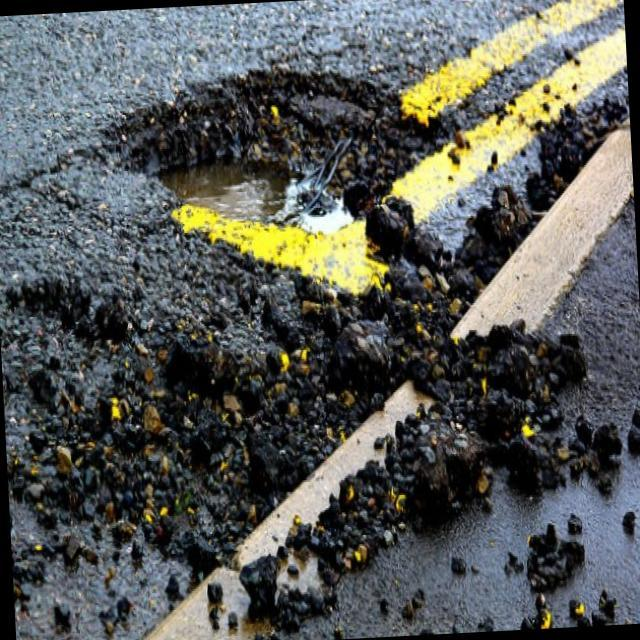Pothole: (86, 56, 448, 364)
